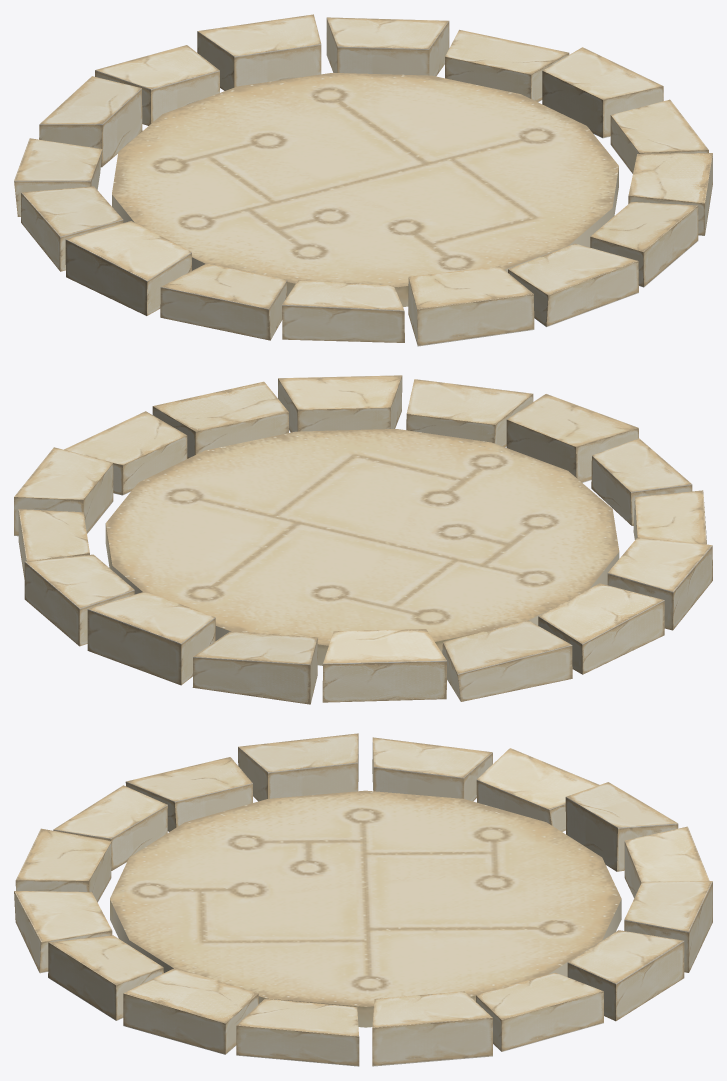
File: platform.fbx
3 views of the same model, one above another, from view 1: azimuth 30°, elevation 25°; view 2: azimuth 150°, elevation 25°; view 3: azimuth 270°, elevation 25° (orthographic).
Parts seen in each view (by area): view 1: Crystal1.001; view 2: Crystal1.001; view 3: Crystal1.001.
Part boxes in pixels (bbox=[...]): Crystal1.001: bbox=[14, 14, 712, 346]; Crystal1.001: bbox=[14, 375, 712, 704]; Crystal1.001: bbox=[14, 733, 712, 1066].
Bounding box in the file's own units: 27.23 × 1.89 × 27.24.
